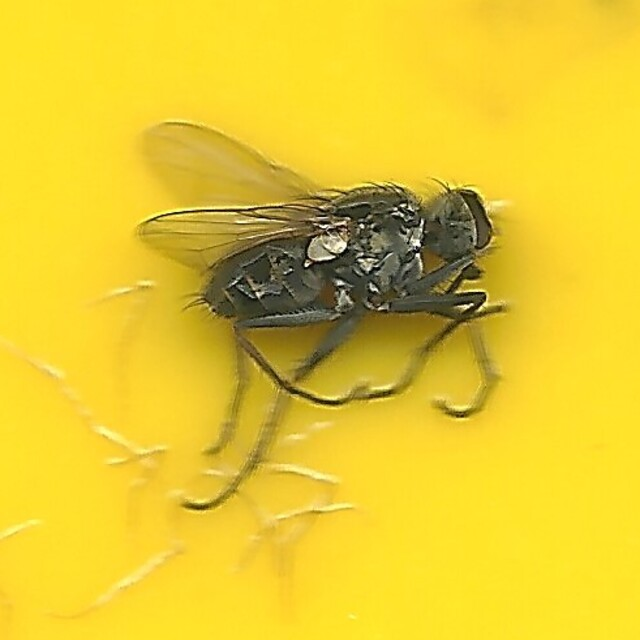Brachycera: (130, 125, 510, 515)
